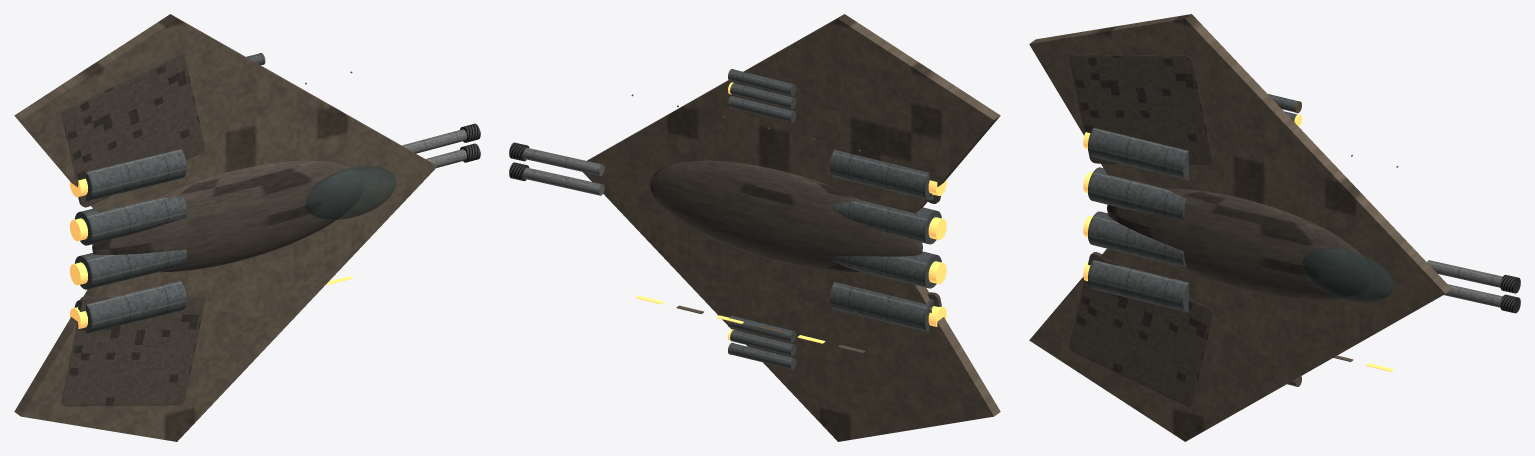
Rendered from d-u27-dominion-heavy-bomber-lod0.glb.
3 views of the same model, side by side, from view 1: azimuth 30°, elevation 25°; view 2: azimuth 150°, elevation 25°; view 3: azimuth 330°, elevation 25° (orthographic).
Parts seen in each view (by area): view 1: flying_wing_planform, flying_wing_core, flying_wing_elevon_1, flying_wing_elevon_-1, flying_wing_canopy, flying_wing_engine_0, flying_wing_engine_2, flying_wing_engine_3, flying_wing_engine_1, flying_wing_gun_barrel_1; view 2: flying_wing_planform, flying_wing_core, flying_wing_engine_0, flying_wing_engine_3, flying_wing_engine_2, flying_wing_engine_1, flying_wing_gun_barrel_1, flying_wing_gun_barrel_0, flying_wing_-1_tube_1, flying_wing_-1_tube_2, flying_wing_1_tube_1, flying_wing_1_tube_3 (+2 smaller); view 3: flying_wing_planform, flying_wing_core, flying_wing_elevon_1, flying_wing_elevon_-1, flying_wing_canopy, flying_wing_engine_0, flying_wing_engine_3, flying_wing_engine_2, flying_wing_engine_1, flying_wing_gun_barrel_1, flying_wing_gun_barrel_0.
Part boxes in pixels (x1=…): flying_wing_planform: x1=14, y1=14, x2=436, y2=441; flying_wing_core: x1=92, y1=160, x2=364, y2=272; flying_wing_elevon_1: x1=61, y1=54, x2=204, y2=207; flying_wing_elevon_-1: x1=61, y1=296, x2=204, y2=406; flying_wing_canopy: x1=305, y1=166, x2=395, y2=220; flying_wing_engine_0: x1=74, y1=280, x2=186, y2=333; flying_wing_engine_2: x1=74, y1=197, x2=186, y2=245; flying_wing_engine_3: x1=86, y1=149, x2=186, y2=201; flying_wing_engine_1: x1=74, y1=249, x2=186, y2=289; flying_wing_gun_barrel_1: x1=402, y1=129, x2=466, y2=153; flying_wing_planform: x1=583, y1=14, x2=1000, y2=441; flying_wing_core: x1=650, y1=160, x2=922, y2=272; flying_wing_engine_0: x1=829, y1=282, x2=933, y2=332; flying_wing_engine_3: x1=829, y1=149, x2=933, y2=200; flying_wing_engine_2: x1=831, y1=200, x2=941, y2=244; flying_wing_engine_1: x1=831, y1=251, x2=941, y2=288; flying_wing_gun_barrel_1: x1=523, y1=147, x2=604, y2=175; flying_wing_gun_barrel_0: x1=523, y1=167, x2=604, y2=195; flying_wing_-1_tube_1: x1=730, y1=343, x2=796, y2=369; flying_wing_-1_tube_2: x1=730, y1=330, x2=796, y2=355; flying_wing_1_tube_1: x1=730, y1=96, x2=796, y2=122; flying_wing_1_tube_3: x1=730, y1=69, x2=796, y2=95; flying_wing_planform: x1=1029, y1=14, x2=1451, y2=441; flying_wing_core: x1=1107, y1=188, x2=1372, y2=299; flying_wing_elevon_1: x1=1069, y1=54, x2=1212, y2=164; flying_wing_elevon_-1: x1=1069, y1=252, x2=1212, y2=406; flying_wing_canopy: x1=1302, y1=248, x2=1393, y2=302; flying_wing_engine_0: x1=1088, y1=260, x2=1188, y2=312; flying_wing_engine_3: x1=1088, y1=127, x2=1188, y2=180; flying_wing_engine_2: x1=1088, y1=167, x2=1186, y2=219; flying_wing_engine_1: x1=1088, y1=211, x2=1186, y2=267; flying_wing_gun_barrel_1: x1=1427, y1=260, x2=1502, y2=287; flying_wing_gun_barrel_0: x1=1444, y1=284, x2=1502, y2=307.
Size of what is drawn, in the model's own units: 19.85 by 17 by 2.31.
7 materials, 7 textured.
